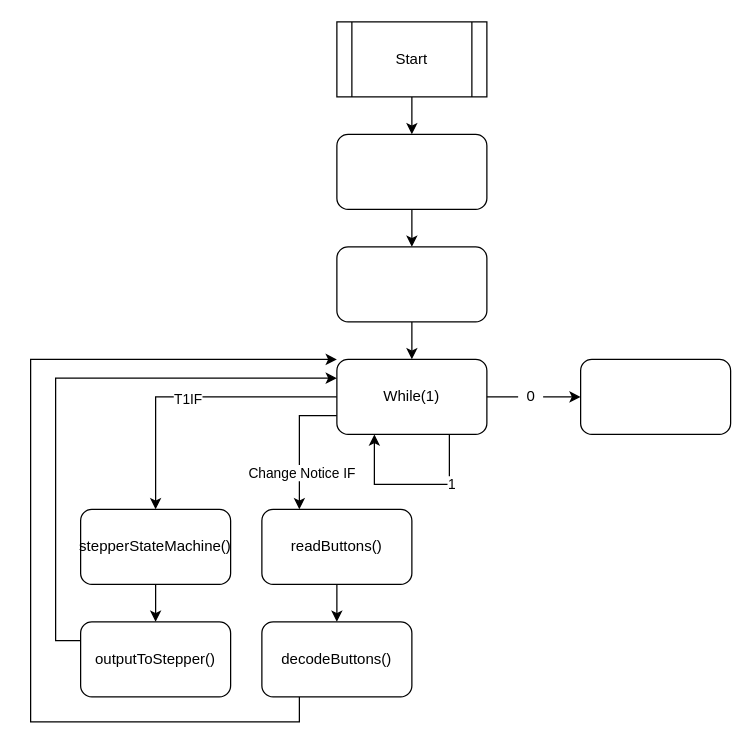
The diagram is 753 pixels wide and 754 high, and some of its shapes have lost their labels. The shapes that lost their labels are listed below. From the top down, each one's centre as x and y in pixels, then its label:
point 411,171: system_init()
point 411,284: Main
point 655,396: Exit
